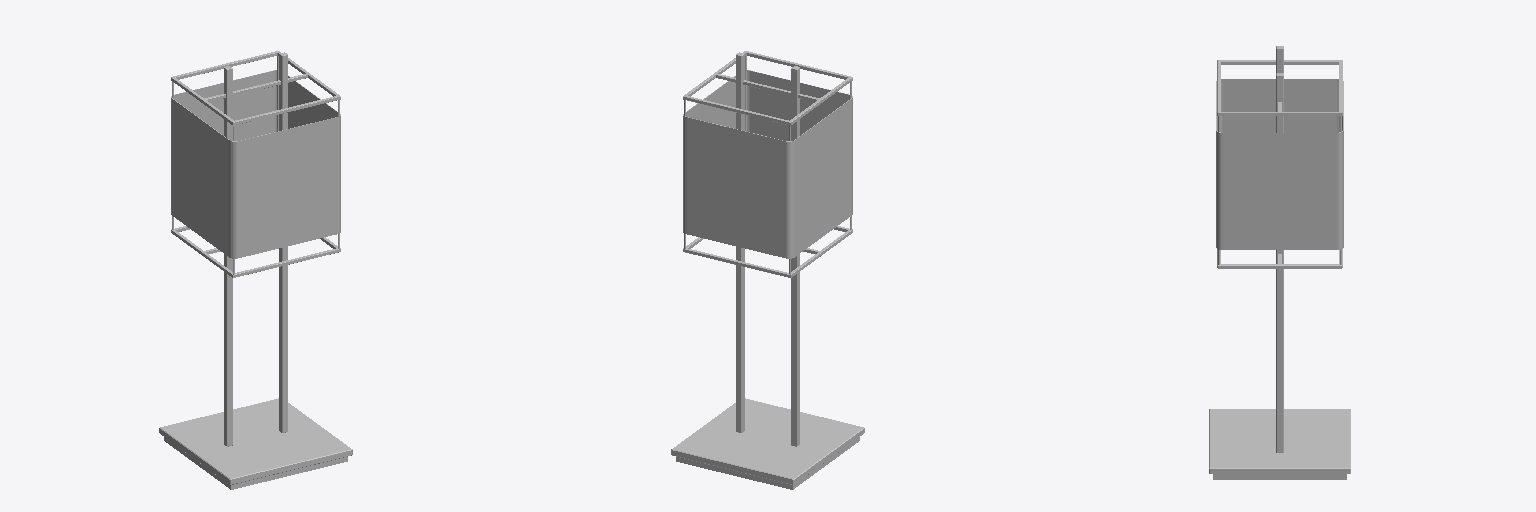
3 renders of one model, left to right at view 1: azimuth 30°, elevation 25°; view 2: azimuth 150°, elevation 25°; view 3: azimuth 270°, elevation 25°, orthographic.
Visible parts, largest first — view 1: lamp_obj_37, lamp_obj_34, lamp_obj_38, lamp_obj_36, lamp_obj_35, lamp_obj_33; view 2: lamp_obj_37, lamp_obj_34, lamp_obj_38, lamp_obj_36, lamp_obj_35, lamp_obj_33; view 3: lamp_obj_37, lamp_obj_34, lamp_obj_38, lamp_obj_36, lamp_obj_33.
Boxes of the visible parts, x1,y1,x2,y2 form: lamp_obj_37: [171, 70, 340, 258]; lamp_obj_34: [159, 398, 352, 484]; lamp_obj_38: [171, 51, 340, 277]; lamp_obj_36: [279, 52, 287, 432]; lamp_obj_35: [224, 66, 232, 446]; lamp_obj_33: [164, 437, 347, 489]; lamp_obj_37: [683, 70, 852, 258]; lamp_obj_34: [671, 398, 864, 484]; lamp_obj_38: [683, 51, 852, 277]; lamp_obj_36: [736, 52, 744, 432]; lamp_obj_35: [791, 66, 799, 446]; lamp_obj_33: [676, 437, 859, 489]; lamp_obj_37: [1216, 79, 1343, 249]; lamp_obj_34: [1209, 409, 1350, 473]; lamp_obj_38: [1217, 60, 1342, 268]; lamp_obj_36: [1276, 73, 1283, 452]; lamp_obj_33: [1213, 474, 1346, 479].
Size of the model in its own units: 7.87 by 23.87 by 7.87.